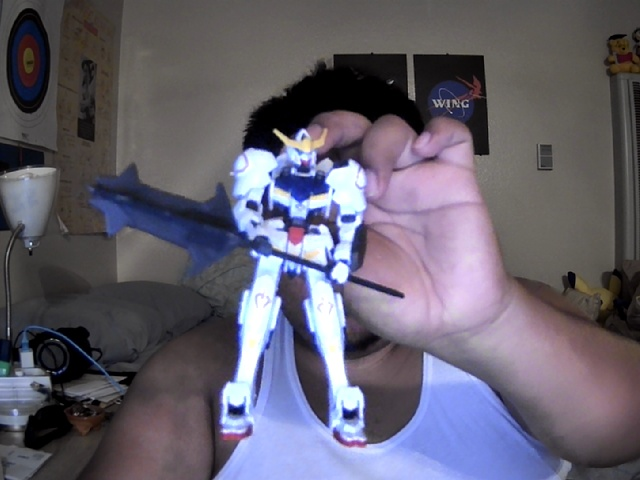Barbatos: (85, 128, 405, 449)
